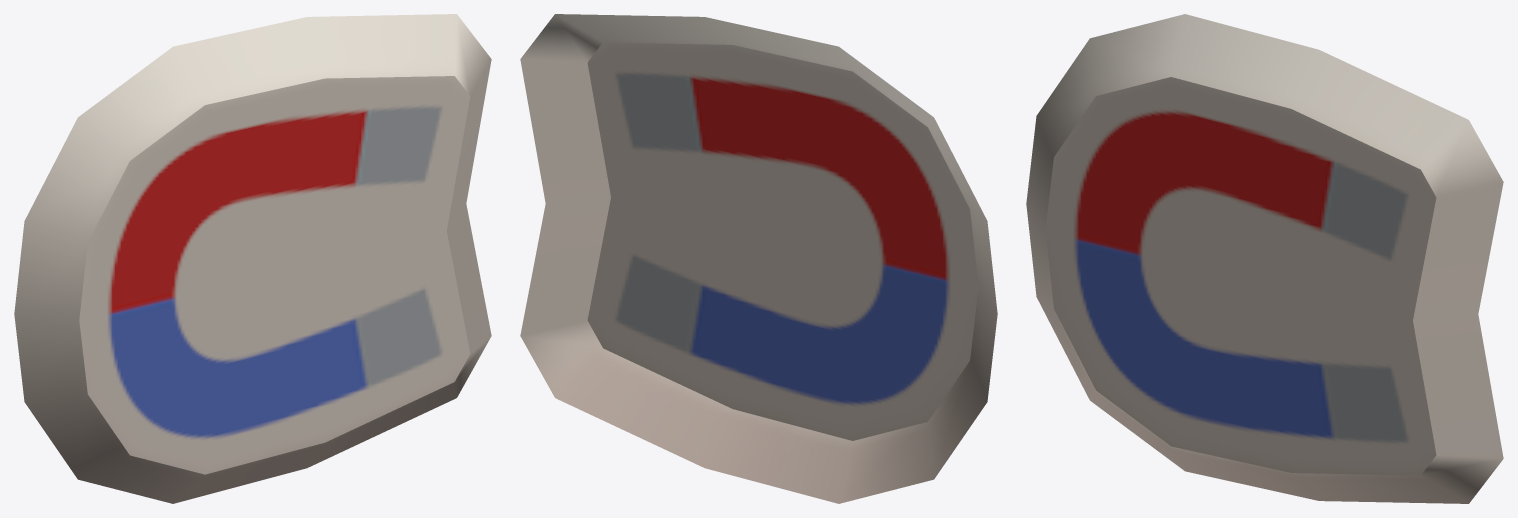
File: magnet_sticker_01.fbx
3 renders of one model, left to right at view 1: azimuth 30°, elevation 25°; view 2: azimuth 150°, elevation 25°; view 3: azimuth 330°, elevation 25°, orthographic.
Visible parts, largest first — view 1: magnet_sticker_01; view 2: magnet_sticker_01; view 3: magnet_sticker_01.
Boxes of the visible parts, bbox=[...] form: magnet_sticker_01: bbox=[14, 14, 491, 503]; magnet_sticker_01: bbox=[520, 14, 997, 503]; magnet_sticker_01: bbox=[1026, 14, 1503, 503].
Bounding box in the file's own units: 19.52 × 17.87 × 1.62.
